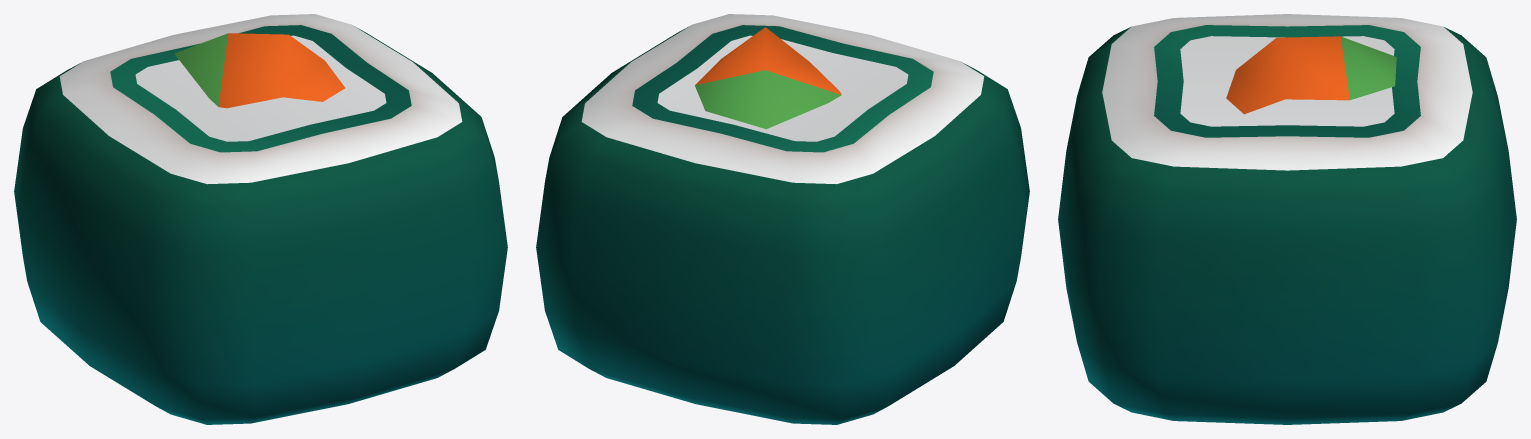
Rendered from roll_001.fbx.
3 views of the same model, side by side, from view 1: azimuth 30°, elevation 25°; view 2: azimuth 150°, elevation 25°; view 3: azimuth 270°, elevation 25° (orthographic). The views are drawn at different scales.
Parts seen in each view (by area): view 1: roll_001; view 2: roll_001; view 3: roll_001.
Boxes of the visible parts, <box> form: roll_001: <box>14,14,507,424</box>; roll_001: <box>536,14,1029,424</box>; roll_001: <box>1058,14,1516,424</box>.
Size of the model in its own units: 4.45 by 4.45 by 3.55.
